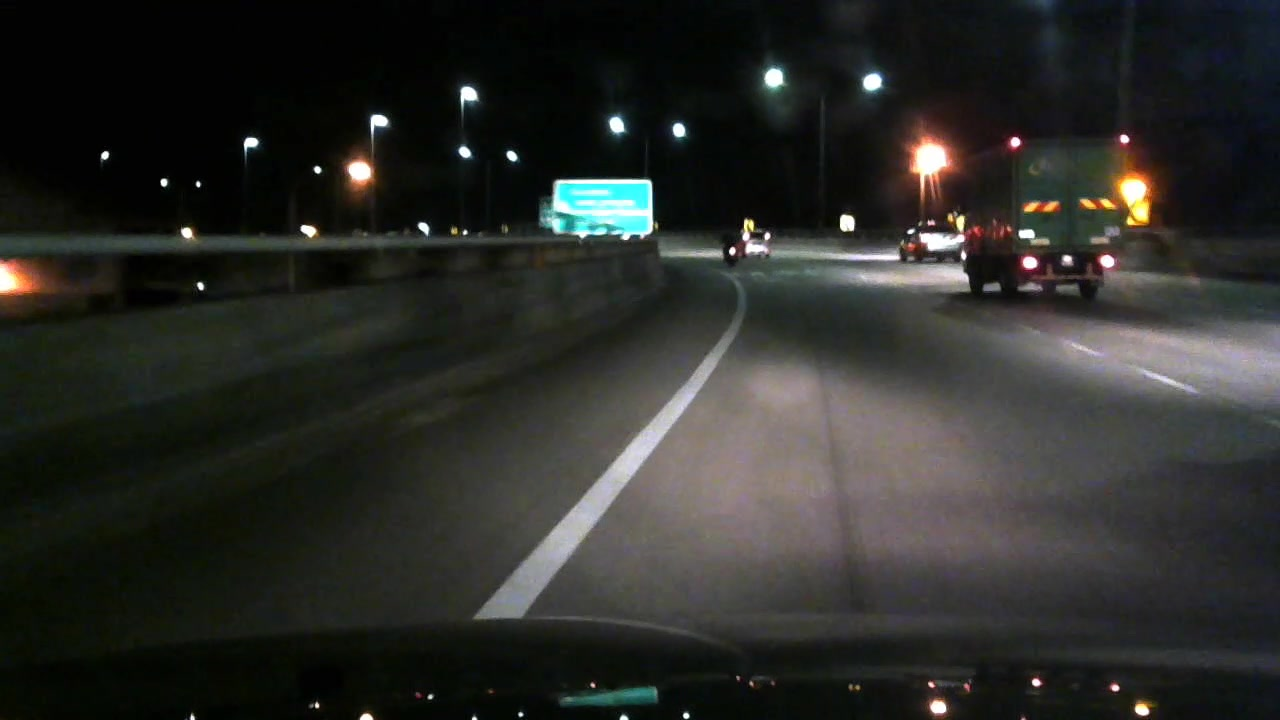Car: (885, 217, 962, 263), (742, 227, 781, 263)
